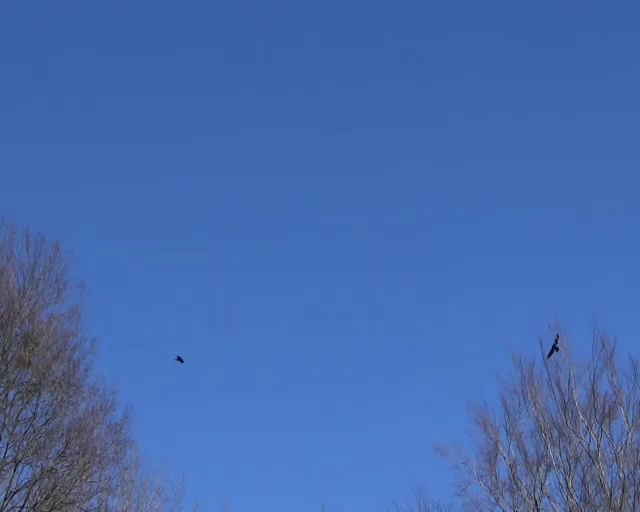BIRD: (175, 355, 184, 364)
